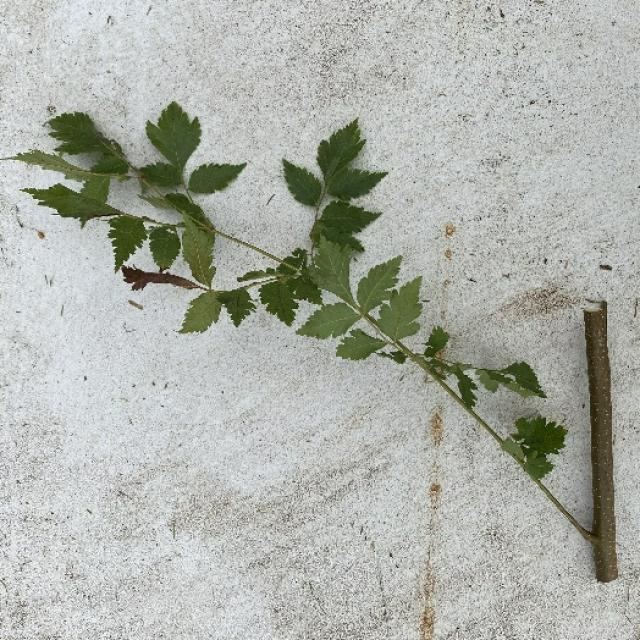organik: (38, 100, 623, 586)
